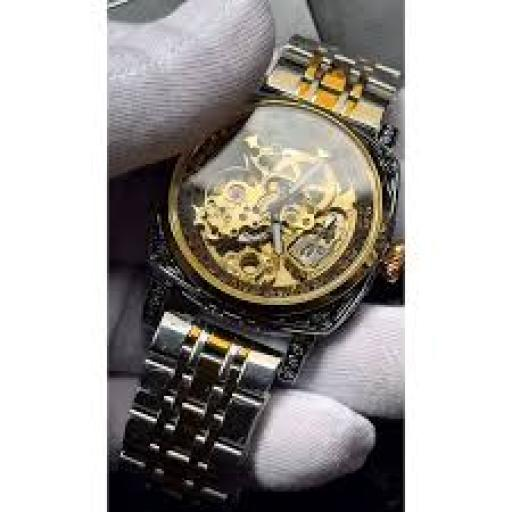KolSaati: (108, 1, 404, 505)
